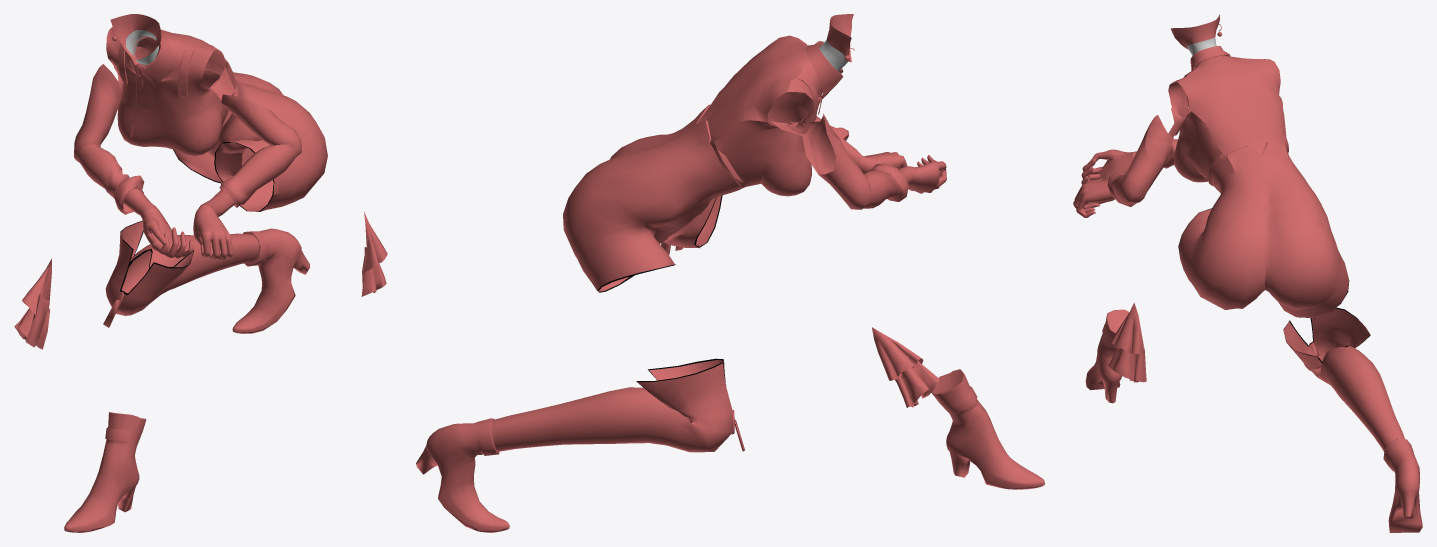
File: Kafka Body.gltf
The picture shows the model from 3 angles, left to right: view 1: azimuth 30°, elevation 25°; view 2: azimuth 150°, elevation 25°; view 3: azimuth 270°, elevation 25°; orthographic projection. The views are drawn at different scales.
Visible parts, largest first — view 1: Body; view 2: Body; view 3: Body.
Boxes of the visible parts, x1=… form: Body: x1=14, y1=14, x2=387, y2=532; Body: x1=416, y1=14, x2=1044, y2=532; Body: x1=1073, y1=14, x2=1422, y2=532.
Size of the model in its own units: 0.8954 by 0.9153 by 0.7048.
